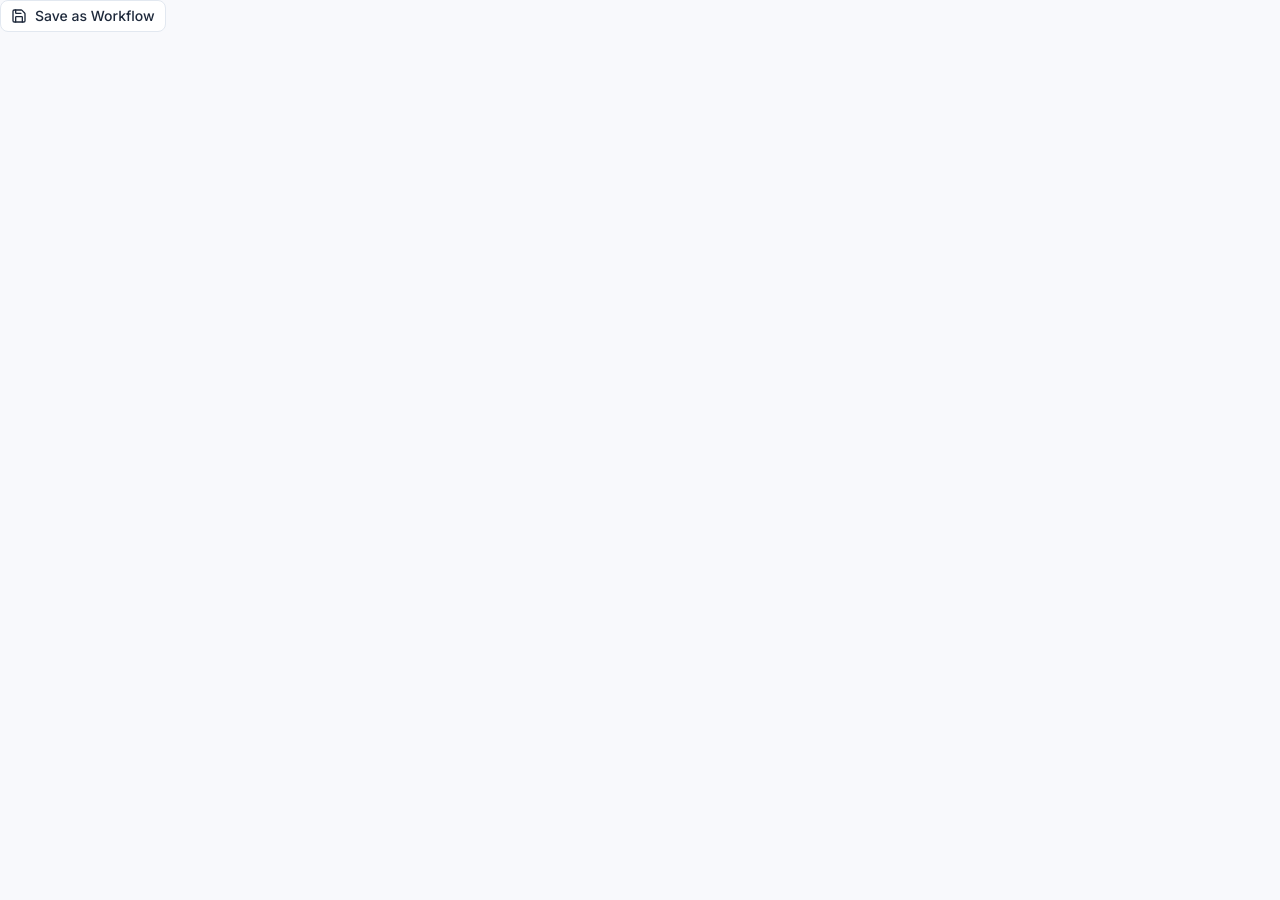
it: SaveWorkflowButton › shows "Workflow Saved!" success state after successful save
Click the button "Save as Workflow".
click(83, 16)  # box [0,0,166,32]
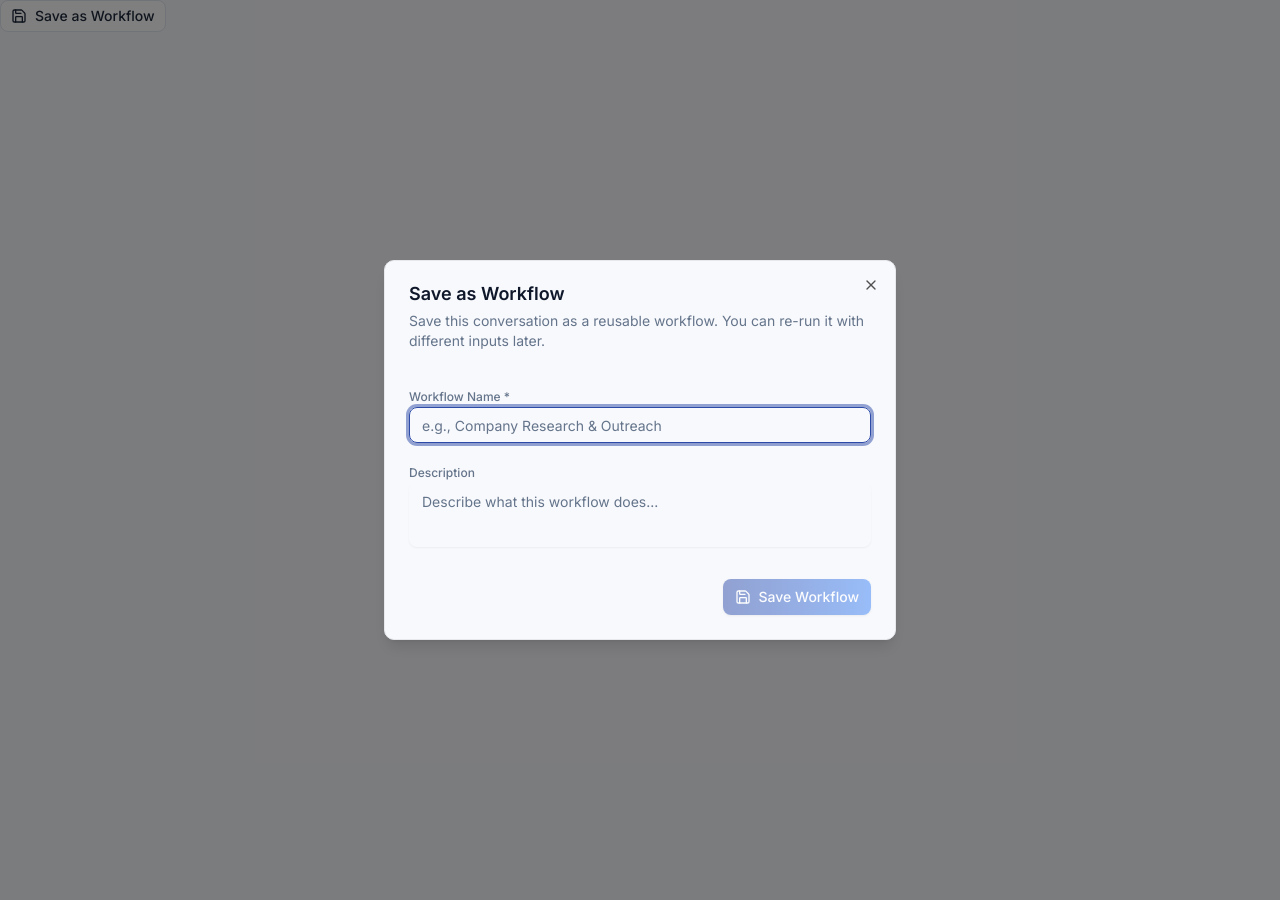
Expected: the field with placeholder "e.g., Company Research & Outreach" is shown
Type "Test Workflow" into the field with placeholder "e.g., Company Research & Outreach".
click(640, 425); type("Test Workflow")  # box [409,407,871,443]
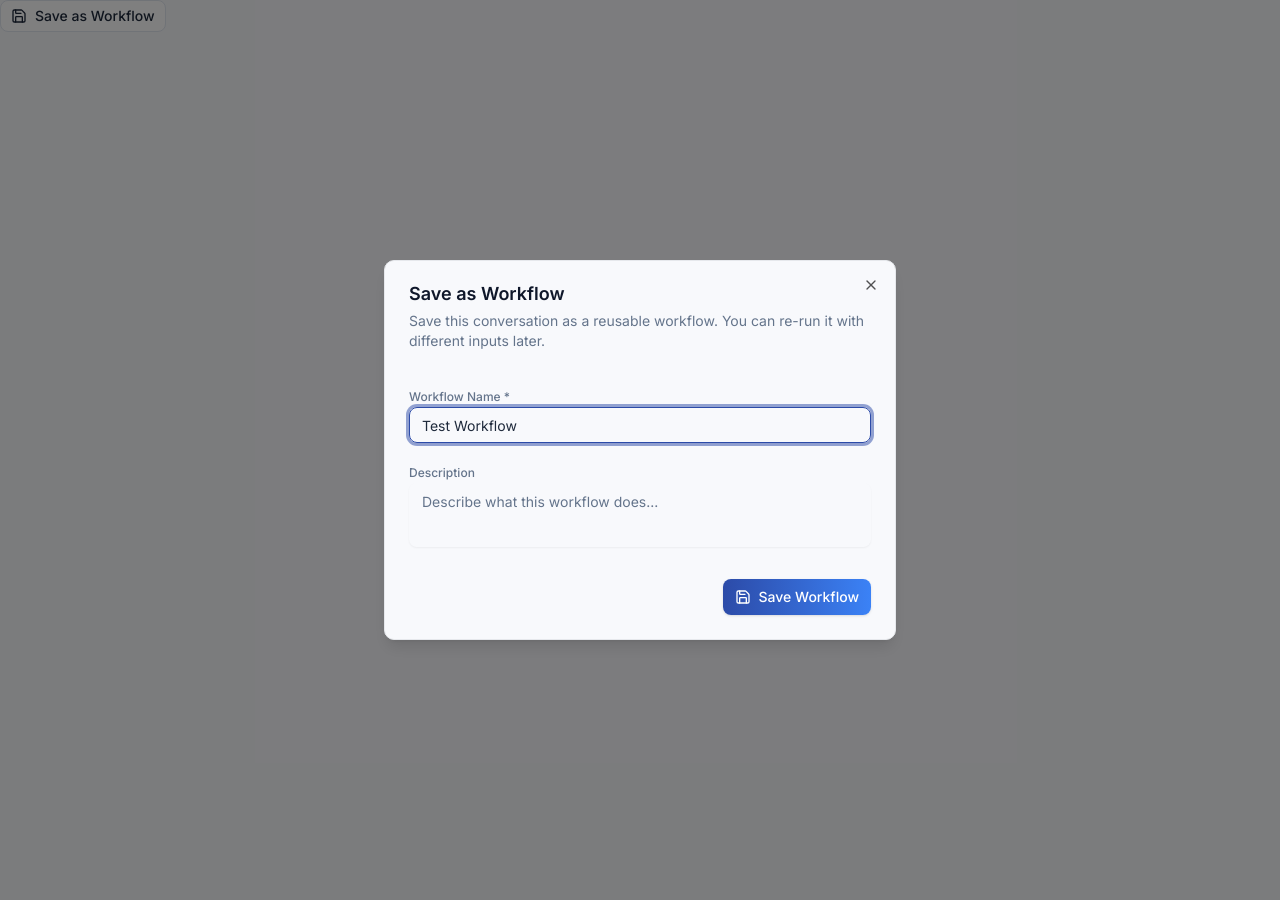
Click the button "Save Workflow".
click(797, 597)  # box [723,579,871,615]
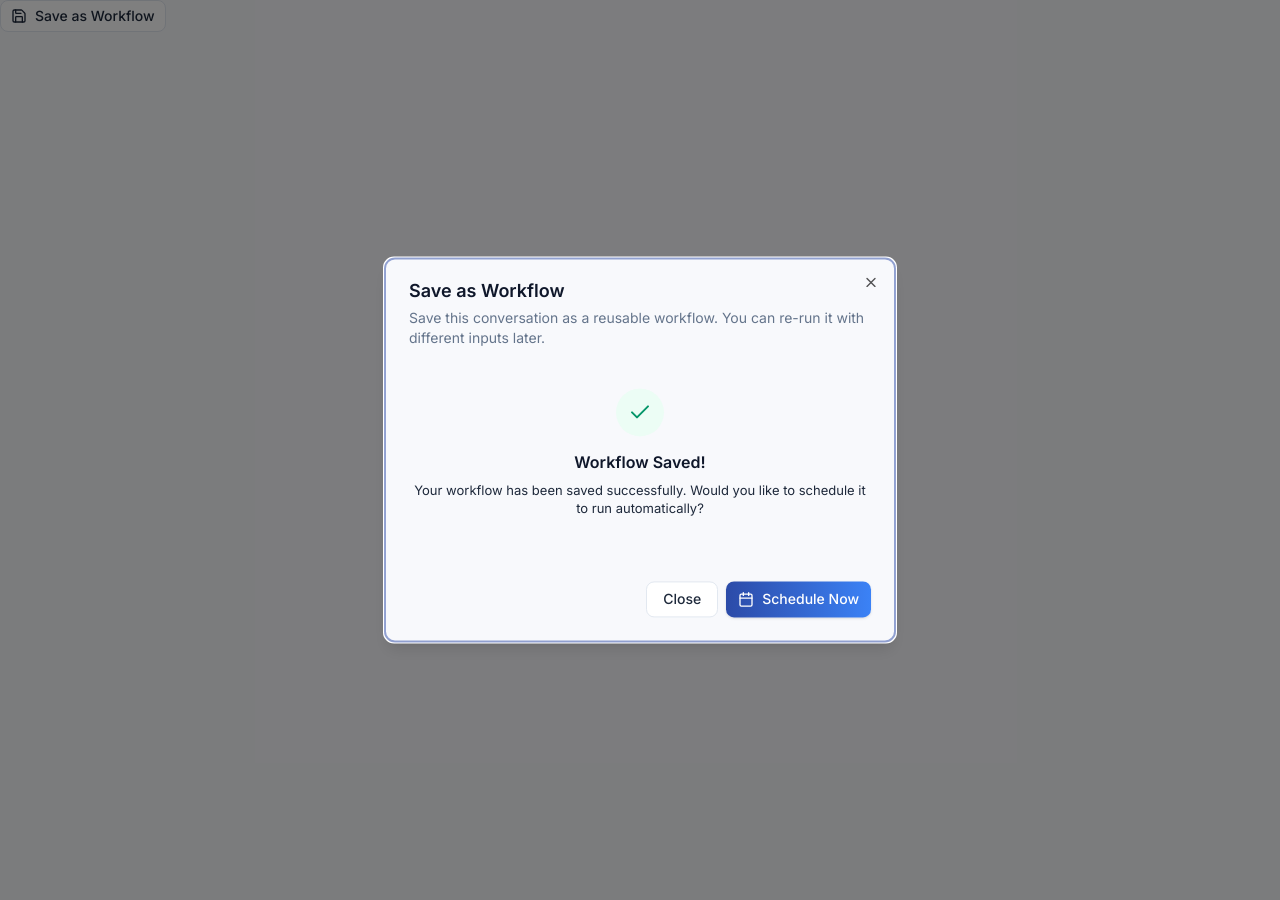
Expected: the heading "Workflow Saved!" is shown, [574,452,706,472]
